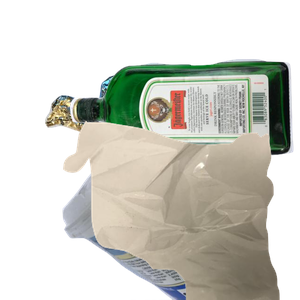glass: (67, 56, 300, 206)
metal: (42, 72, 239, 229)
plastic: (60, 120, 300, 300)
trash: (61, 120, 300, 300)
